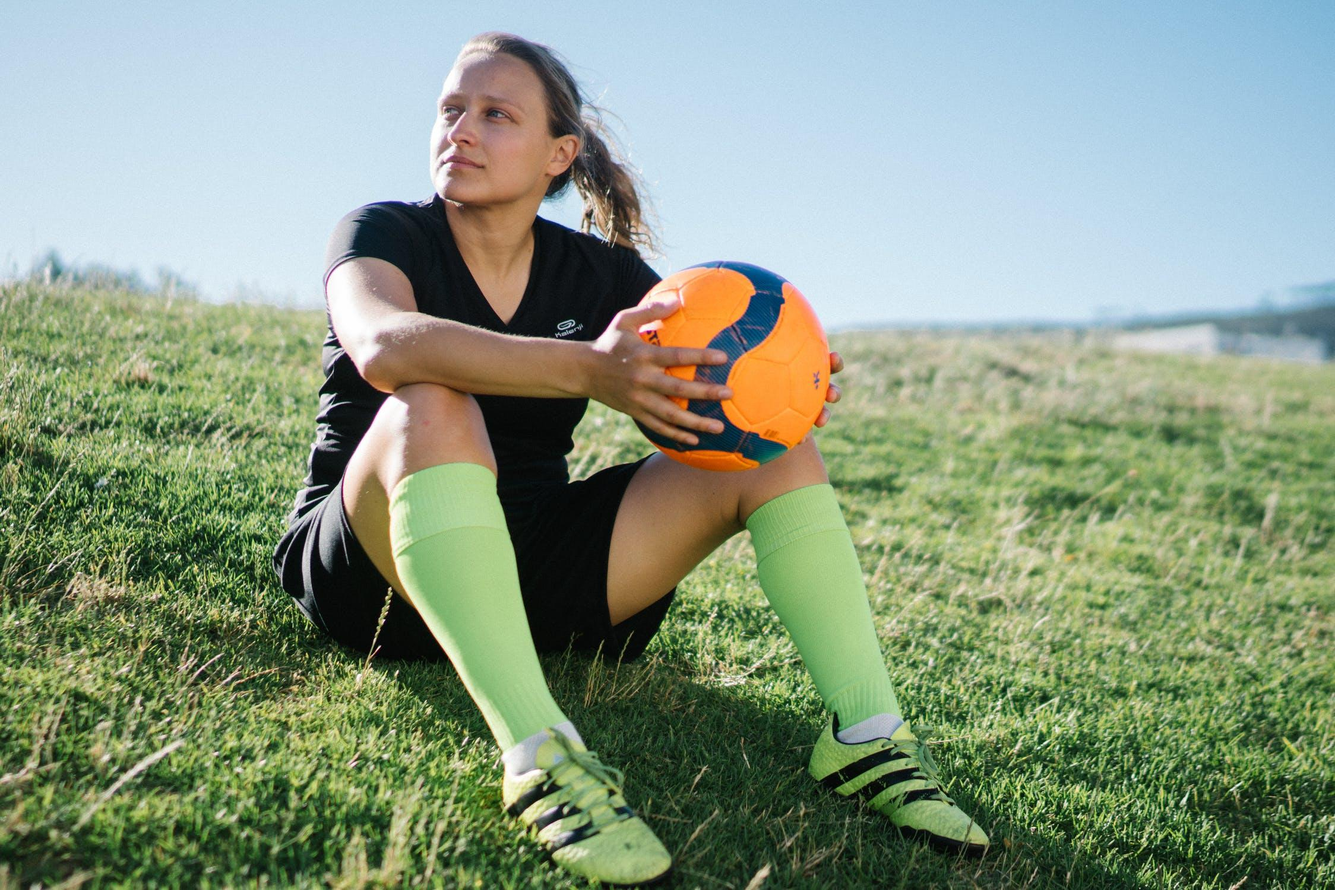ballon_football: (625, 258, 831, 474)
